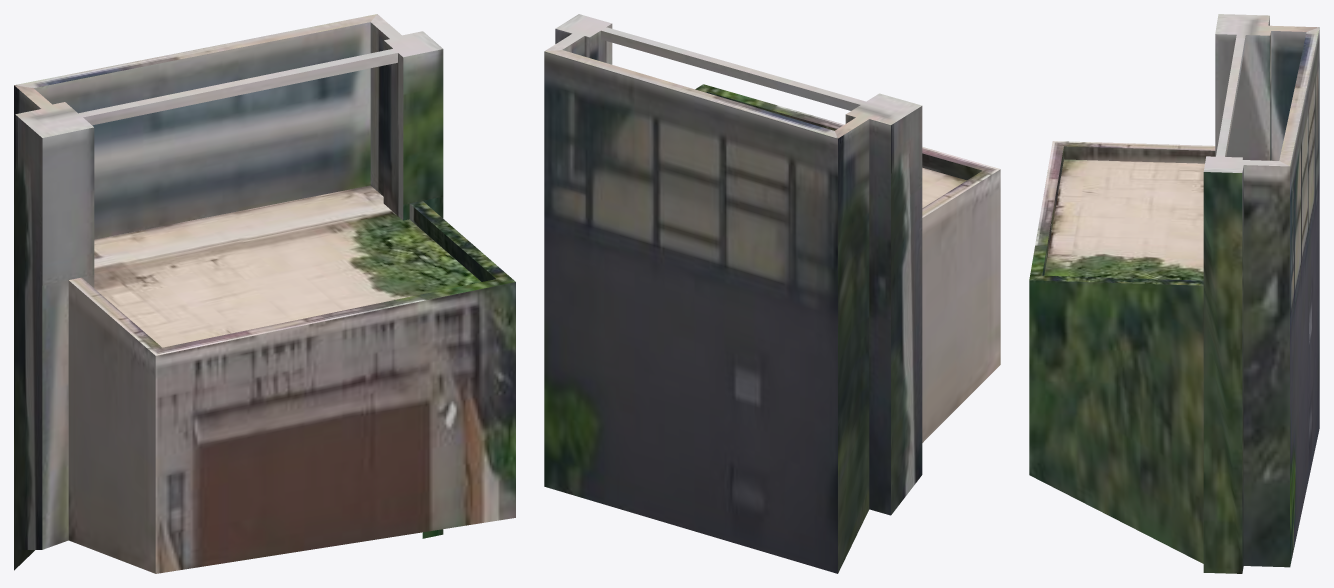
The picture shows the model from 3 angles, left to right: view 1: azimuth 30°, elevation 25°; view 2: azimuth 150°, elevation 25°; view 3: azimuth 270°, elevation 25°; orthographic projection. The views are drawn at different scales.
Visible parts, largest first — view 1: B282904040501062A0; view 2: B282904040501062A0; view 3: B282904040501062A0.
Part boxes in pixels (<box>): B282904040501062A0: <box>14,14,515,573</box>; B282904040501062A0: <box>544,14,1000,573</box>; B282904040501062A0: <box>1029,14,1319,573</box>.
Bounding box in the file's own units: 9.85 × 11.57 × 7.6.
Materials: 1 (1 with a texture image).
